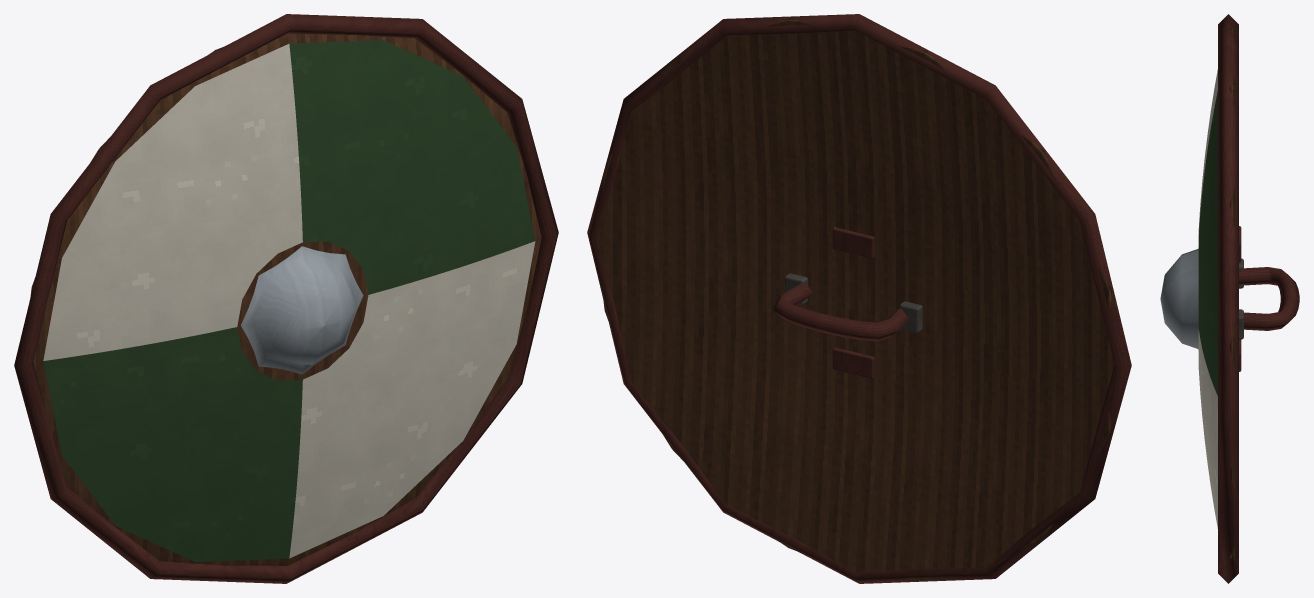
File: round-shield.lod2.glb
The picture shows the model from 3 angles, left to right: view 1: azimuth 30°, elevation 25°; view 2: azimuth 150°, elevation 25°; view 3: azimuth 270°, elevation 25°; orthographic projection. The views are drawn at different scales.
Parts seen in each view (by area): view 1: enamel / heraldic enamel, ceramic / ceramic composite panel, leather / oiled leather wrap, wood / oiled hardwood, steel / forged blade steel; view 2: wood / oiled hardwood, leather / oiled leather wrap, iron / hammer-scaled wrought iron; view 3: leather / oiled leather wrap, ceramic / ceramic composite panel, steel / forged blade steel, enamel / heraldic enamel, wood / oiled hardwood, iron / hammer-scaled wrought iron.
Part boxes in pixels (x1,y1,x2,y2): enamel / heraldic enamel: (43, 44, 535, 558); ceramic / ceramic composite panel: (43, 40, 535, 561); leather / oiled leather wrap: (14, 14, 558, 583); wood / oiled hardwood: (30, 33, 541, 565); steel / forged blade steel: (241, 246, 363, 374); wood / oiled hardwood: (596, 18, 1114, 580); leather / oiled leather wrap: (587, 14, 1131, 583); iron / hammer-scaled wrought iron: (785, 273, 922, 332); leather / oiled leather wrap: (1218, 14, 1299, 583); ceramic / ceramic composite panel: (1198, 90, 1217, 395); steel / forged blade steel: (1160, 248, 1198, 349); enamel / heraldic enamel: (1198, 69, 1217, 528); wood / oiled hardwood: (1229, 28, 1235, 560); iron / hammer-scaled wrought iron: (1239, 258, 1243, 339).
Bounding box in the file's own units: 0.664 × 0.664 × 0.1615.
7 materials, 6 textured.
